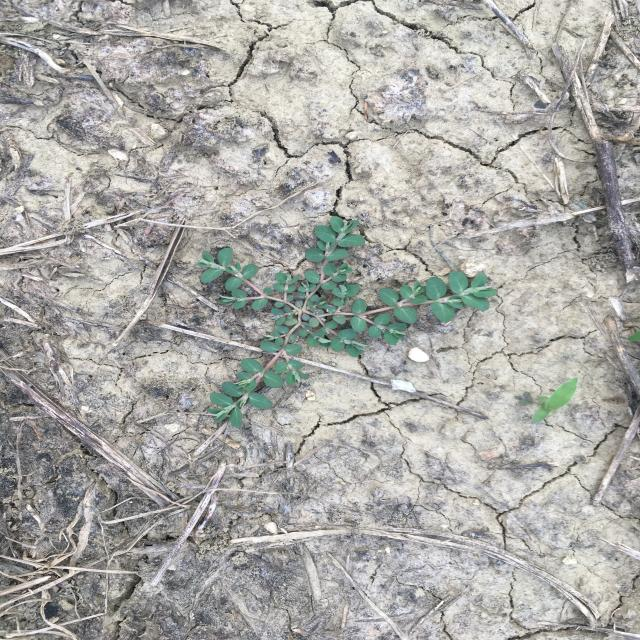SpottedSpurge: (194, 217, 500, 430)
